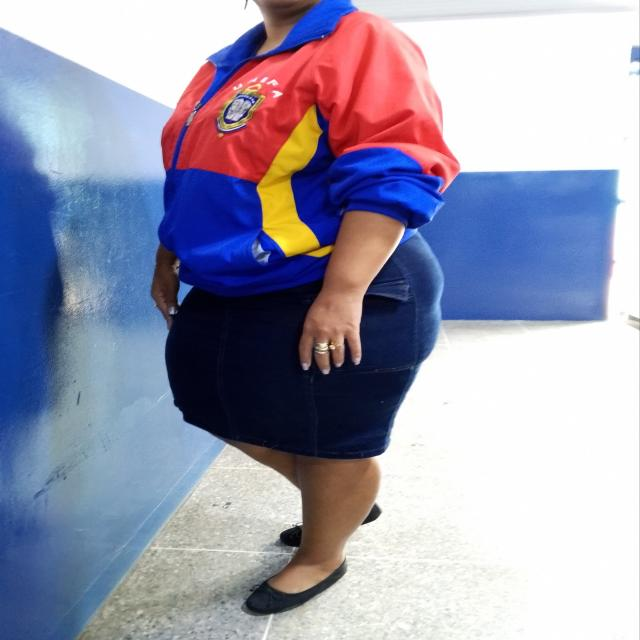chaqueta_unefa: (156, 0, 460, 296)
